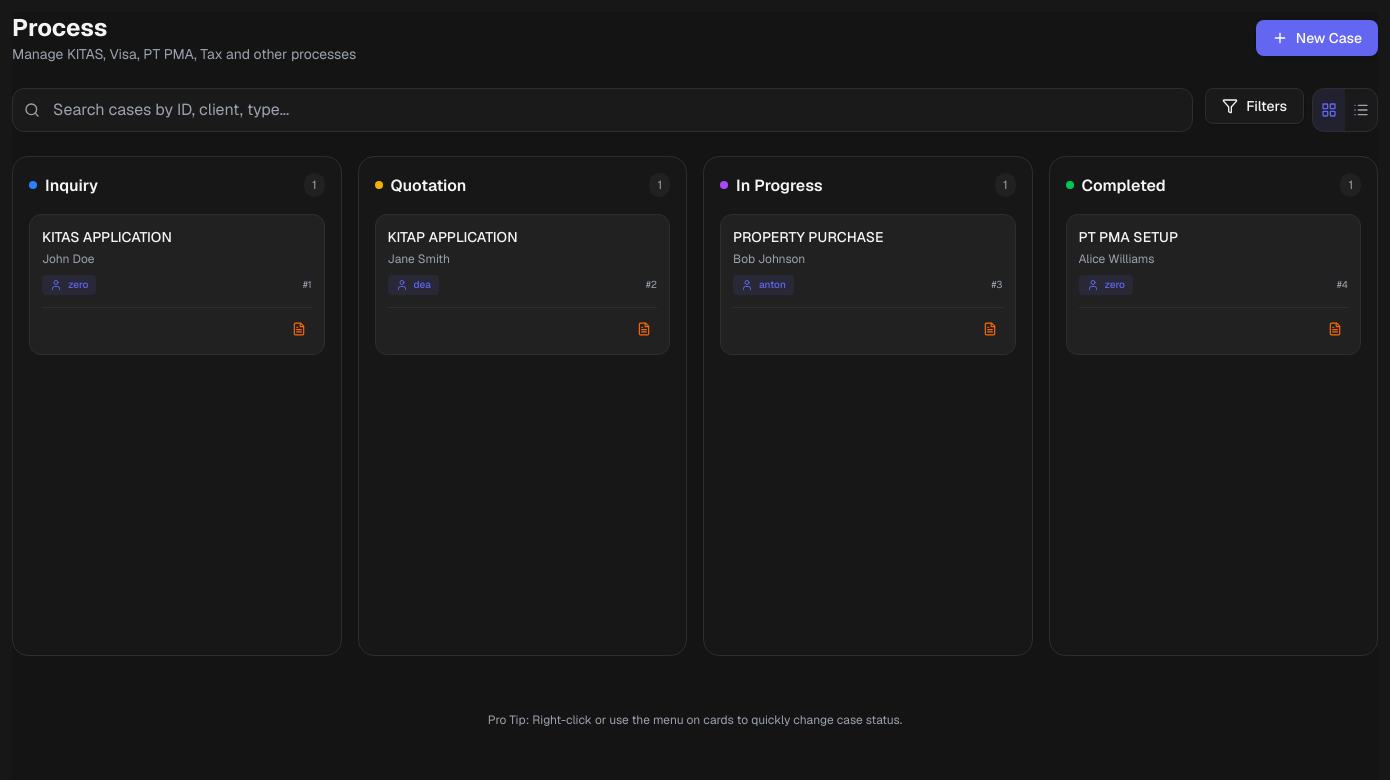
Test: Cases Page › Filter Functionality › should open filter panel when Filters button clicked
Click the button "Filters".
click(1255, 106)  # box [1205, 88, 1304, 124]
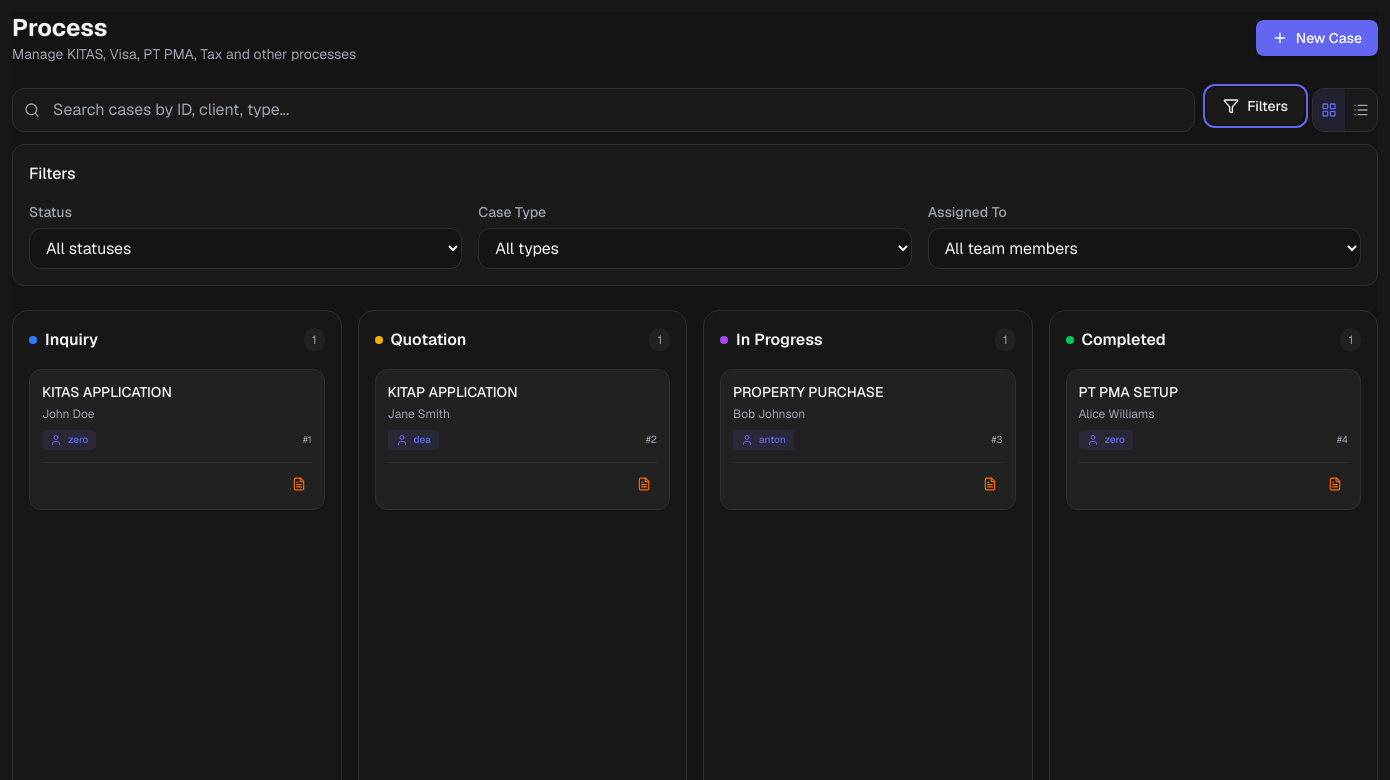
expect the text "Status" is shown: met, box [29, 203, 72, 221]
expect the text "Case Type" is shown: met, box [478, 203, 546, 221]
expect the text "Assigned To" is shown: met, box [928, 203, 1007, 221]
